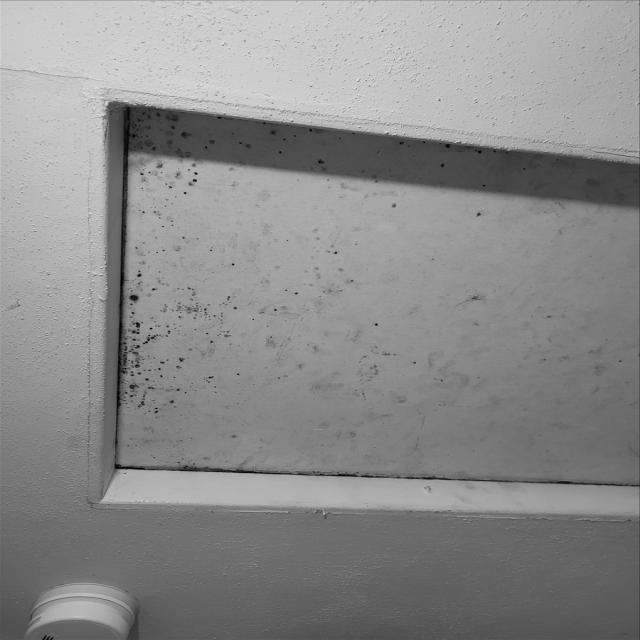stain marks: (106, 105, 640, 503)
